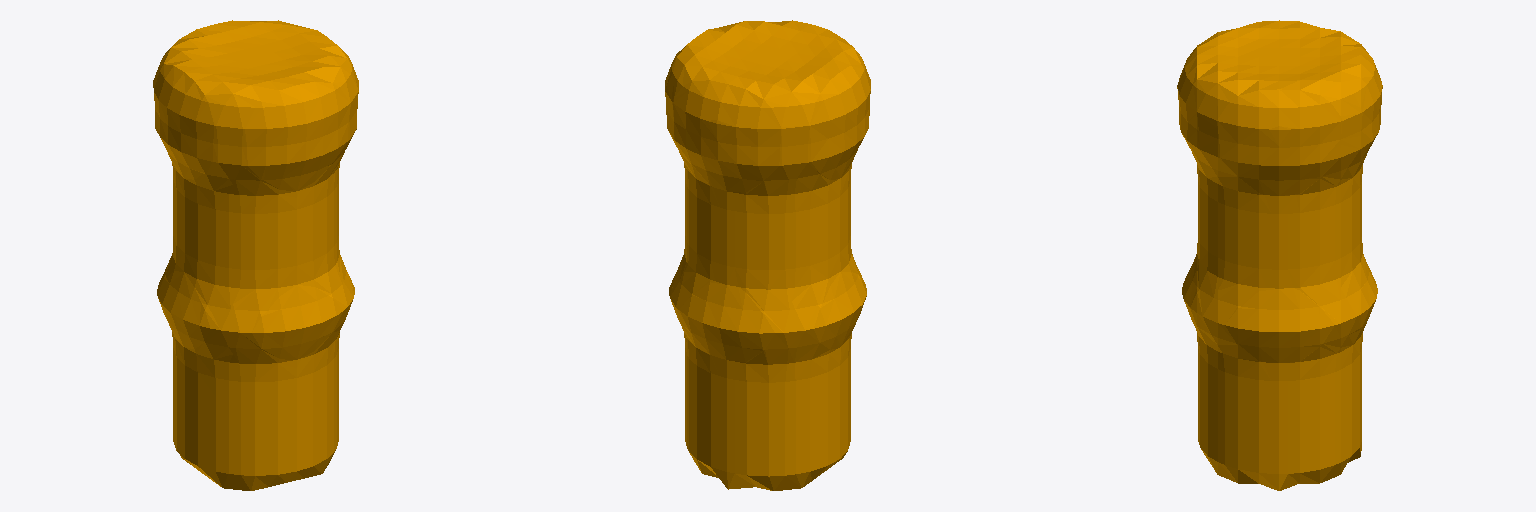
URDF robot description (cylinder_../../meshes/cylinders/cylinder_97.stl):
<?xml version="1.0" encoding="utf-8"?>  <robot name="cylinder_../../meshes/cylinders/cylinder_97.stl">   <link name="cylinder_../../meshes/cylinders/cylinder_97.stl">     <visual>       <geometry>         <mesh filename="../meshes/cylinders/cylinder_97.stl" scale="1 1 1"/>       </geometry>     </visual>     <collision>       <geometry>         <mesh filename="../meshes/cylinders/cylinder_97.stl" scale="1 1 1"/>       </geometry>     </collision>     <inertial>        <origin         xyz="0 0 0"         rpy="0 0 0" />       <mass value="0.1535151423885412"/>       <origin rpy="0 0 0" xyz="0 0 0"/>       <inertia ixx="0.00016933825431617527" ixy="-5.620590614283781e-09" ixz="3.6107757868025686e-08" iyy="0.00016933764166211437" iyz="3.276259801331274e-08" izz="3.57659584417039e-05"/>     </inertial>   </link>  </robot>

--- Render facts (derived) ---
Views: 3 orthographic renders of the robot side by side, from view 1: azimuth 30°, elevation 25°; view 2: azimuth 150°, elevation 25°; view 3: azimuth 270°, elevation 25°.
Robot: cylinder_../../meshes/cylinders/cylinder_97.stl — 1 links, 0 joints (none); root link cylinder_../../meshes/cylinders/cylinder_97.stl; default pose: all joints at 0.
Visible links, largest first — view 1: cylinder_../../meshes/cylinders/cylinder_97.stl; view 2: cylinder_../../meshes/cylinders/cylinder_97.stl; view 3: cylinder_../../meshes/cylinders/cylinder_97.stl.
Boxes of the visible links, x1=… form: cylinder_../../meshes/cylinders/cylinder_97.stl: x1=153, y1=20, x2=358, y2=490; cylinder_../../meshes/cylinders/cylinder_97.stl: x1=665, y1=20, x2=870, y2=490; cylinder_../../meshes/cylinders/cylinder_97.stl: x1=1177, y1=20, x2=1382, y2=490.
Bounding box of the posed robot: 0.0501 × 0.0501 × 0.1087 m (x, y, z).
1 mesh visuals loaded from 1 distinct referenced files (1 binary STL).